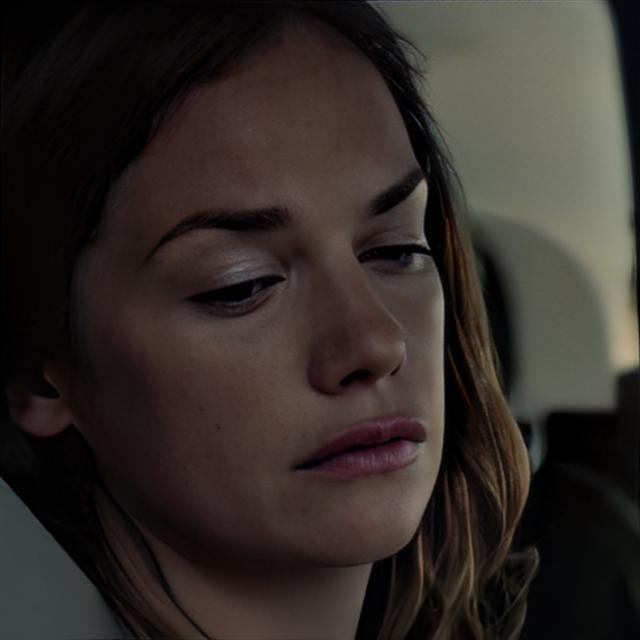sad: (81, 38, 449, 566)
